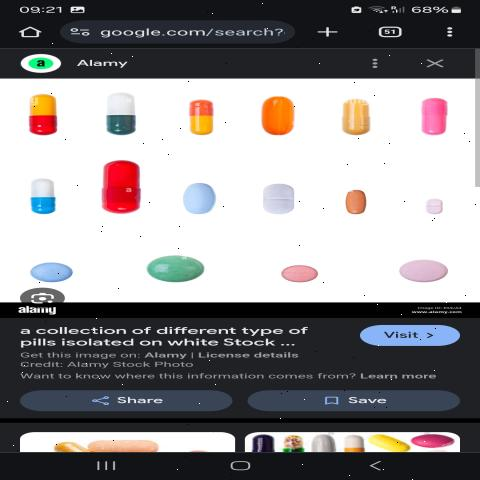Pill: (398, 91, 480, 158), (87, 154, 164, 222), (91, 86, 157, 146), (320, 93, 392, 147), (136, 246, 218, 290), (243, 90, 306, 146), (25, 89, 82, 144), (246, 182, 312, 226), (389, 254, 458, 296), (16, 252, 100, 286), (178, 178, 234, 228), (14, 171, 68, 221), (171, 98, 231, 142), (274, 254, 332, 290), (331, 186, 385, 224), (418, 196, 454, 222)
